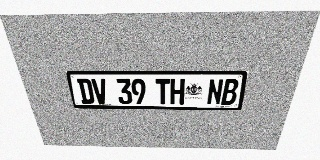3: (116, 79, 132, 104)
9: (131, 79, 146, 104)
B: (221, 79, 239, 105)
D: (77, 78, 95, 104)
H: (170, 79, 185, 105)
N: (206, 79, 224, 105)
T: (155, 79, 170, 104)
V: (91, 78, 108, 104)
